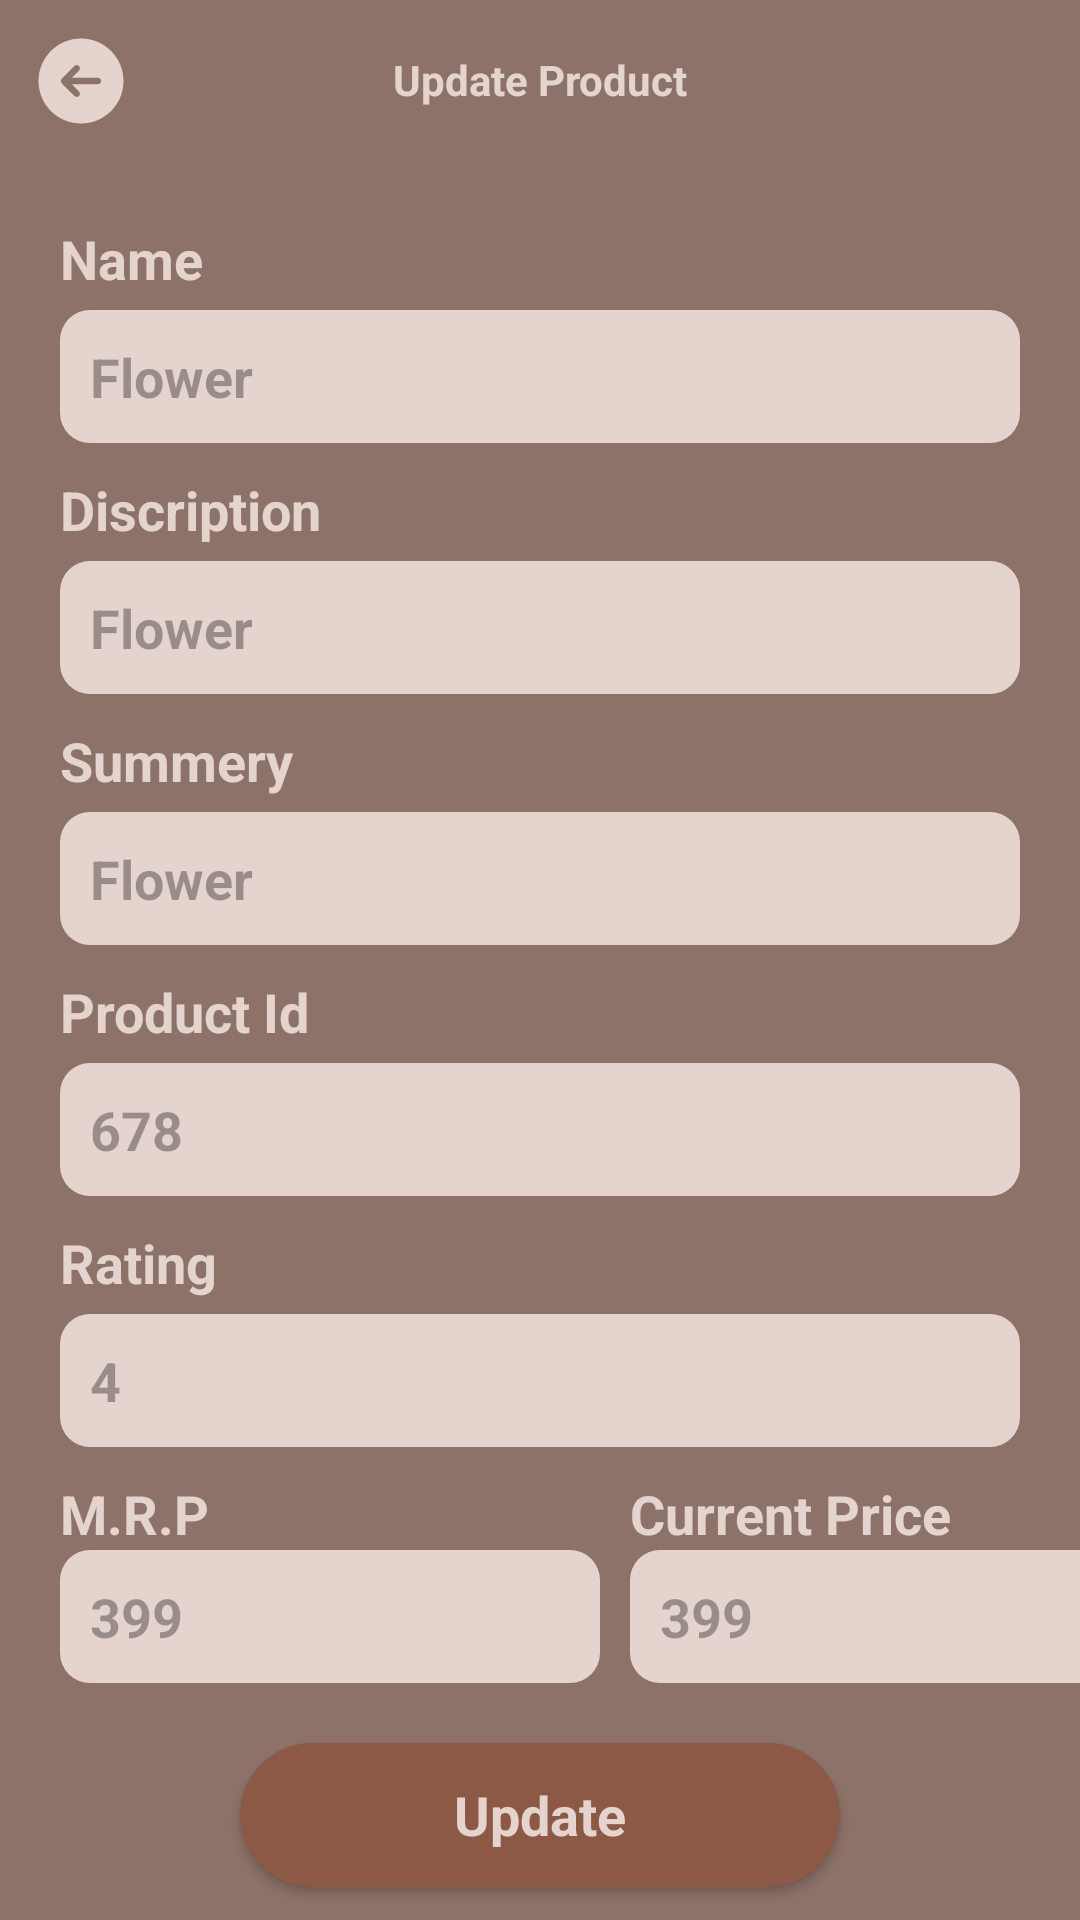

Where icons sit on this 1080px×1920px app screen, as (x1, y1, x2, y2):
back: (38, 38, 124, 124)
